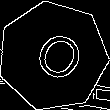O_SW: (22, 23, 85, 89)
